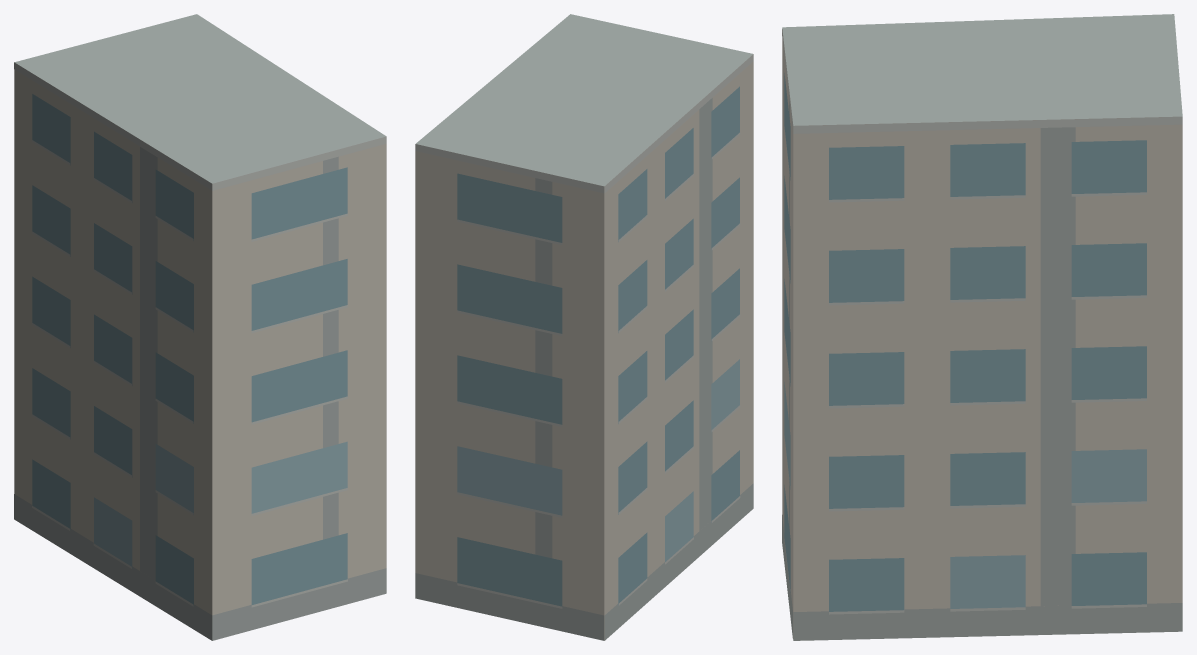
File: survey-upis-32742562.glb
The picture shows the model from 3 angles, left to right: view 1: azimuth 30°, elevation 25°; view 2: azimuth 150°, elevation 25°; view 3: azimuth 270°, elevation 25°; orthographic projection. The views are drawn at different scales.
Visible parts, largest first — view 1: survey-upis-32742562.tmp; view 2: survey-upis-32742562.tmp; view 3: survey-upis-32742562.tmp.
Boxes of the visible parts, bbox=[...] form: survey-upis-32742562.tmp: bbox=[14, 14, 386, 640]; survey-upis-32742562.tmp: bbox=[415, 14, 753, 640]; survey-upis-32742562.tmp: bbox=[782, 14, 1182, 640].
Bounding box in the file's own units: 7.26 × 15.57 × 10.99.
